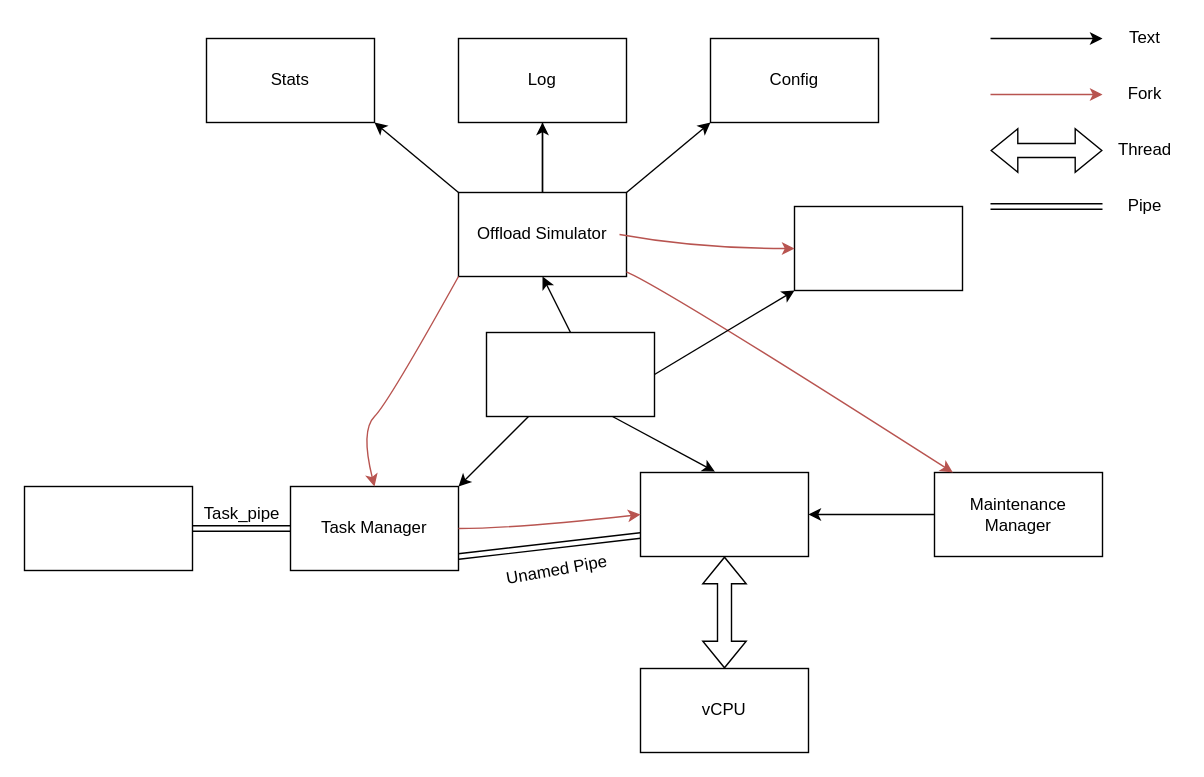
This 1204x777 diagram has some shape labels left out. Each missing label, with the centre of its shape:
"Edge Server" goes at (x=723, y=513).
"Mobile Node" goes at (x=107, y=527).
"Monitor" goes at (x=877, y=247).
"Shared Memory" goes at (x=569, y=373).
